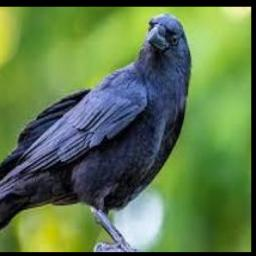Crow: (0, 12, 193, 250)
